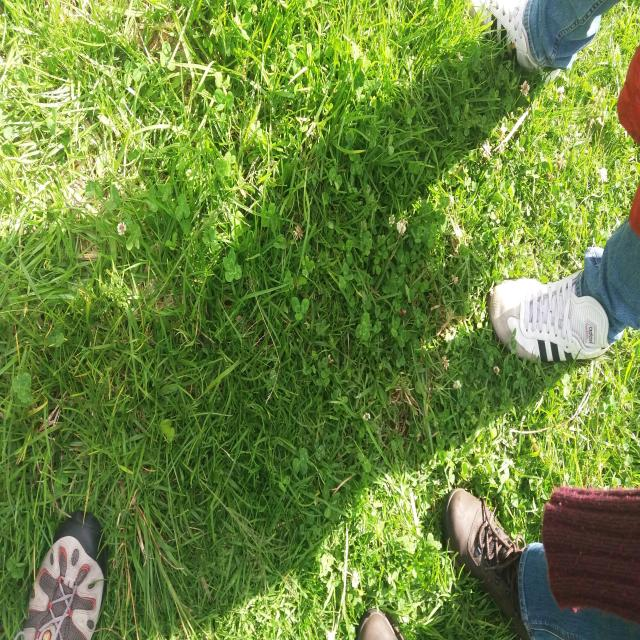Four Leaf Clover: (222, 248, 242, 282)
